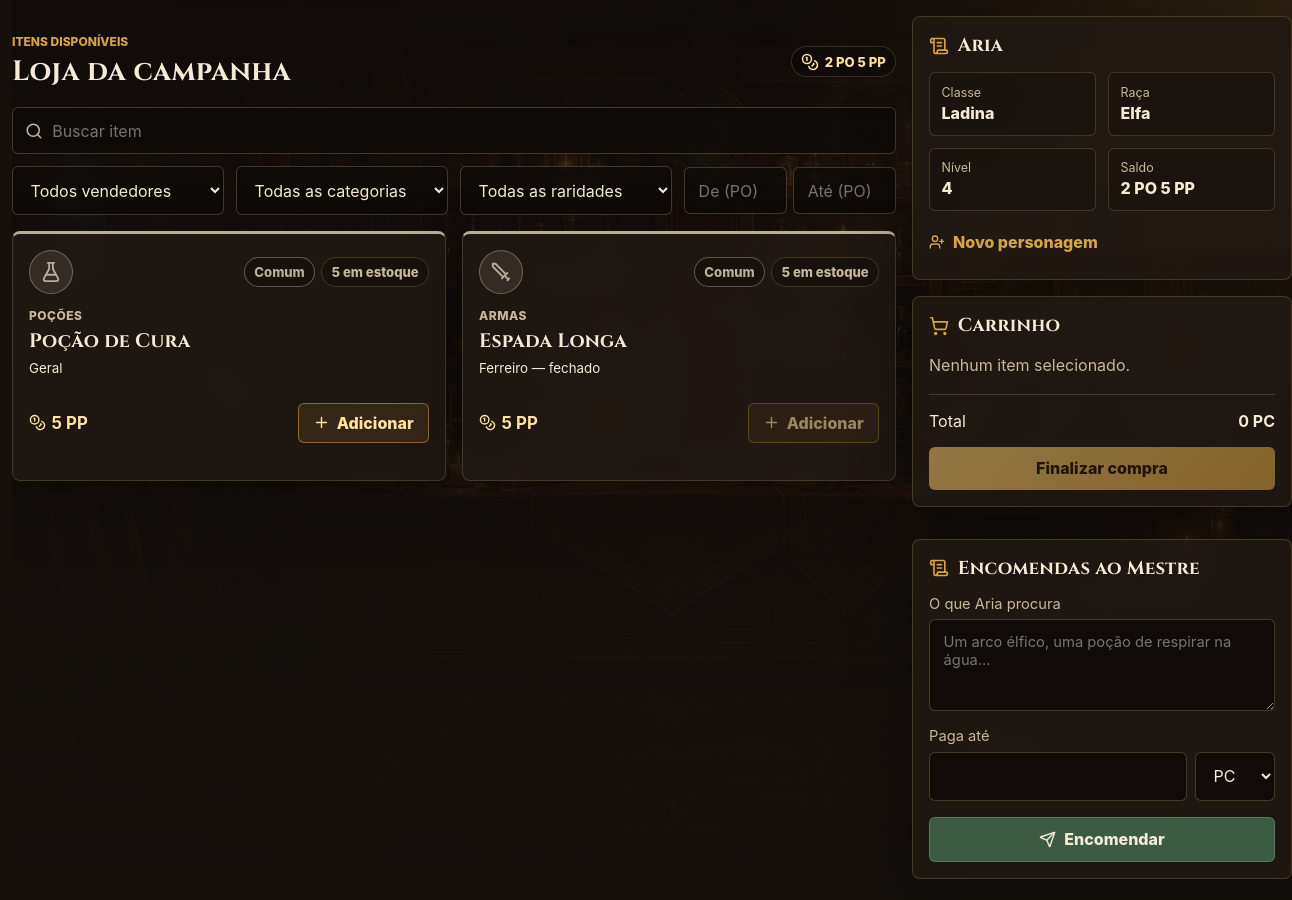
Scenario: ShopPage › filtra vendedores e bloqueia somente as ofertas fechadas
Expected: the heading "Espada Longa" is shown, [479,328,627,354]
Expected: the button "Adicionar" below "Geral" is enabled, [298,403,429,443]
Select "Ferreiro (fechado)" in the dropdown named "Filtrar por vendedor" at (118, 191), box [12,166,224,215]
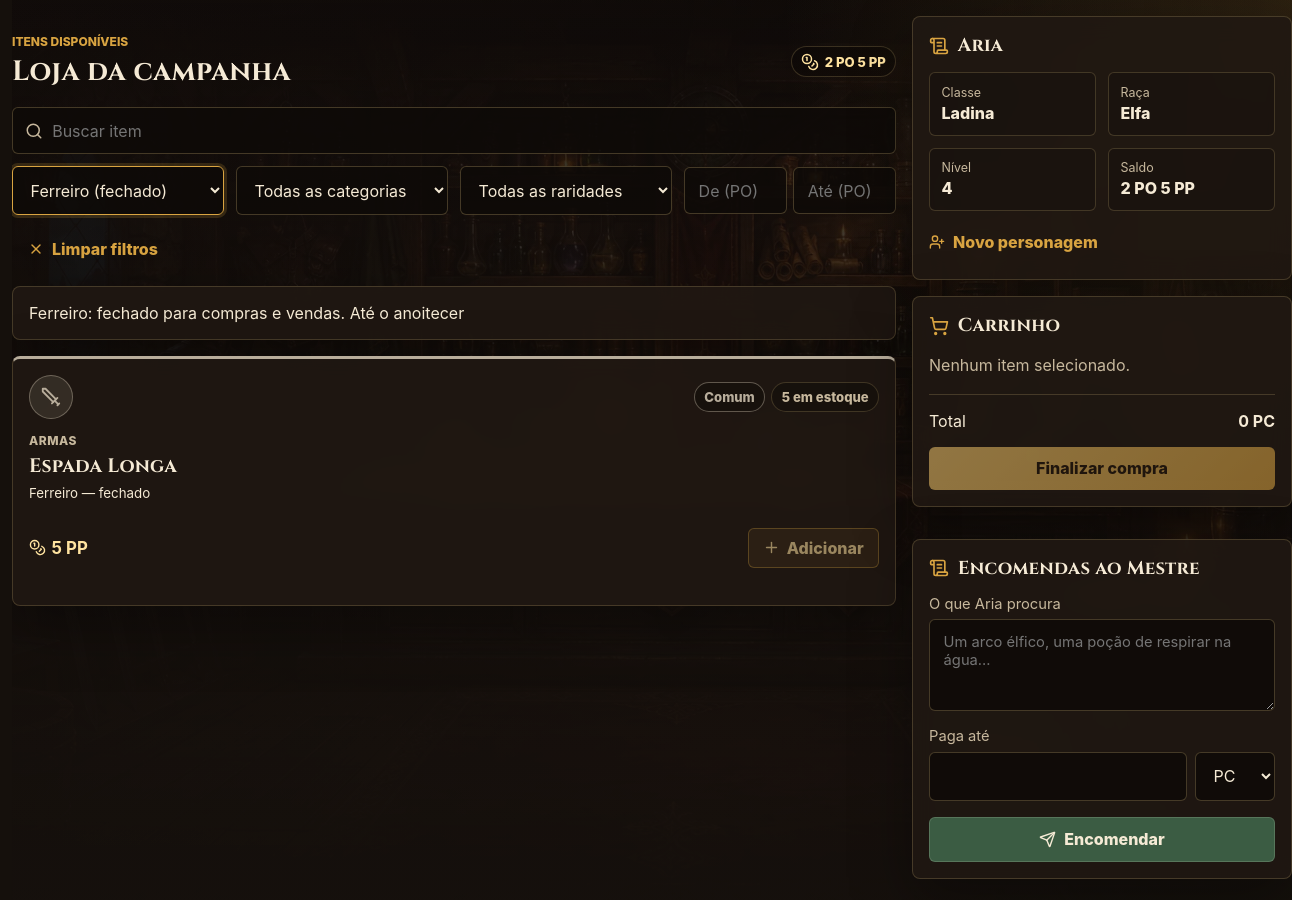
Now the text "Ferreiro: fechado para compras e vendas. Até o anoitecer" is shown, box [12,286,896,340]
Now the heading "Poção de Cura" is gone
